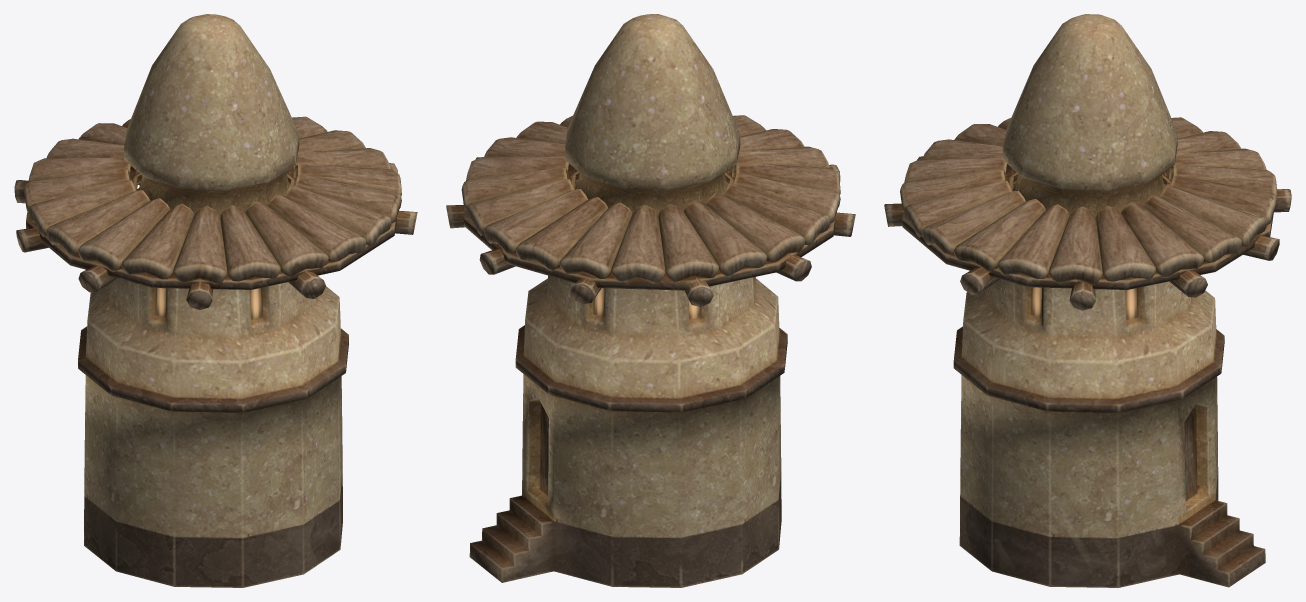
Rendered from desert_hut.glb.
3 views of the same model, side by side, from view 1: azimuth 30°, elevation 25°; view 2: azimuth 150°, elevation 25°; view 3: azimuth 270°, elevation 25° (orthographic).
Visible parts, largest first — view 1: Object_2; view 2: Object_2; view 3: Object_2.
Boxes of the visible parts, left/top/right/bottom form: Object_2: left=14, top=14, right=417, bottom=587; Object_2: left=446, top=14, right=855, bottom=587; Object_2: left=884, top=14, right=1291, bottom=587.
Bounding box in the file's own units: 6 × 8.34 × 6.02.
Materials: 1 (1 with a texture image).
